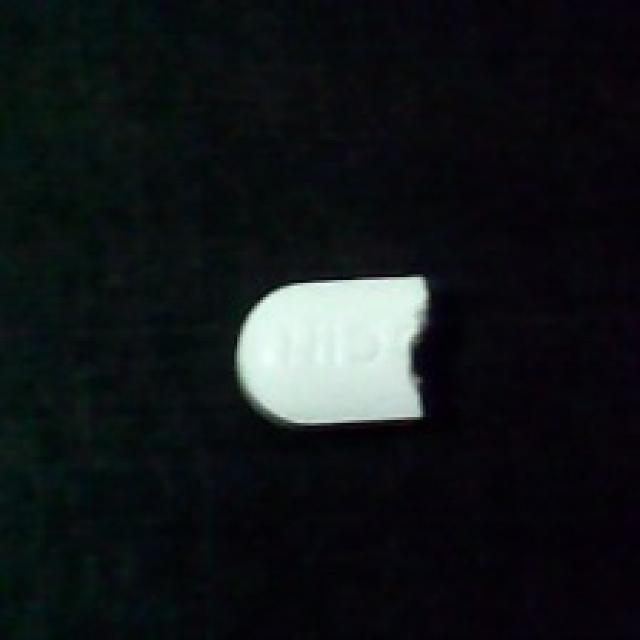defected: (231, 263, 437, 434)
